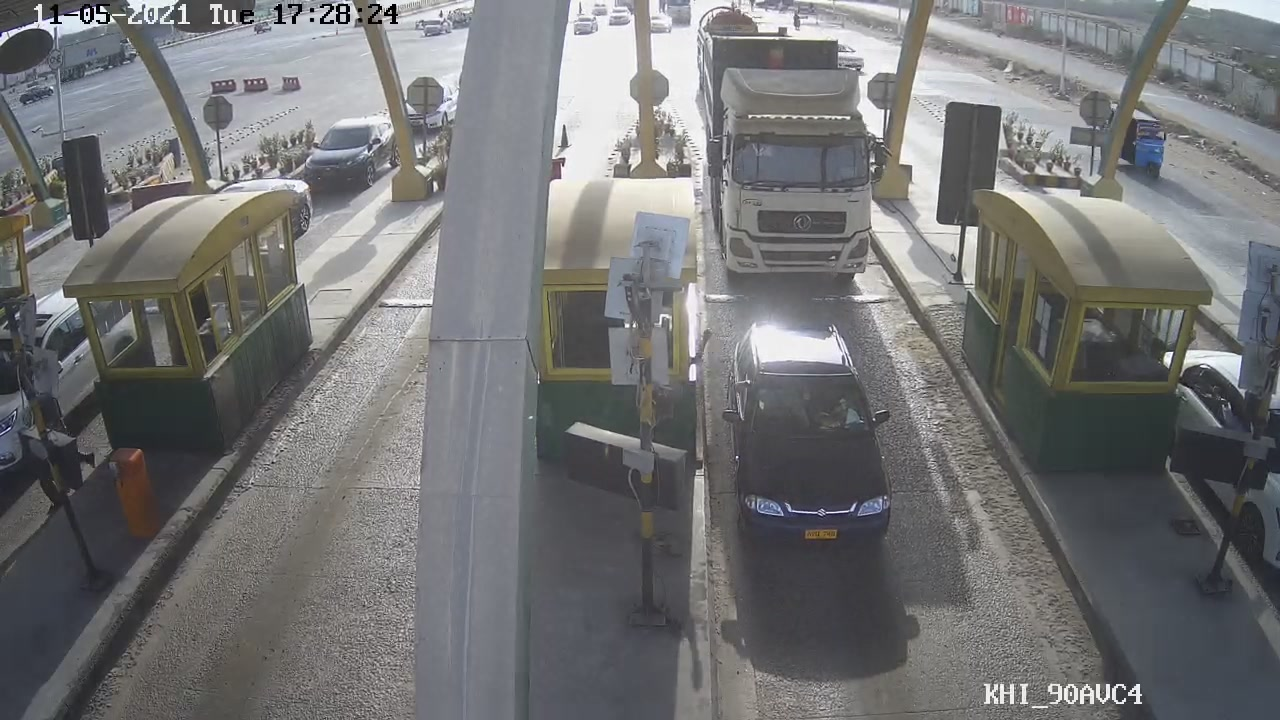F6: (709, 28, 891, 289)
